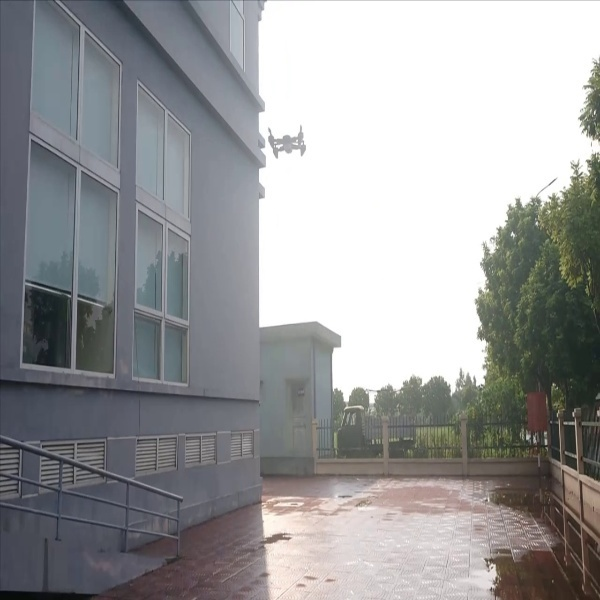drone: (260, 122, 319, 168)
